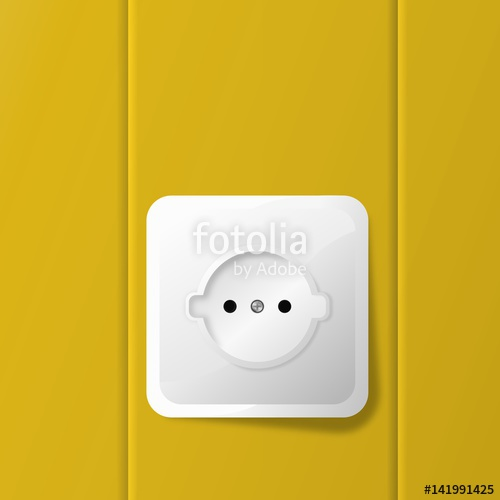raccoon: (199, 245, 319, 373)
